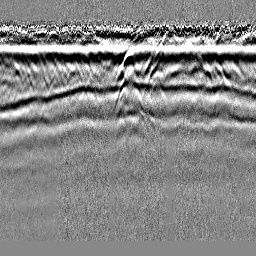cavity: (115, 49, 139, 82)
